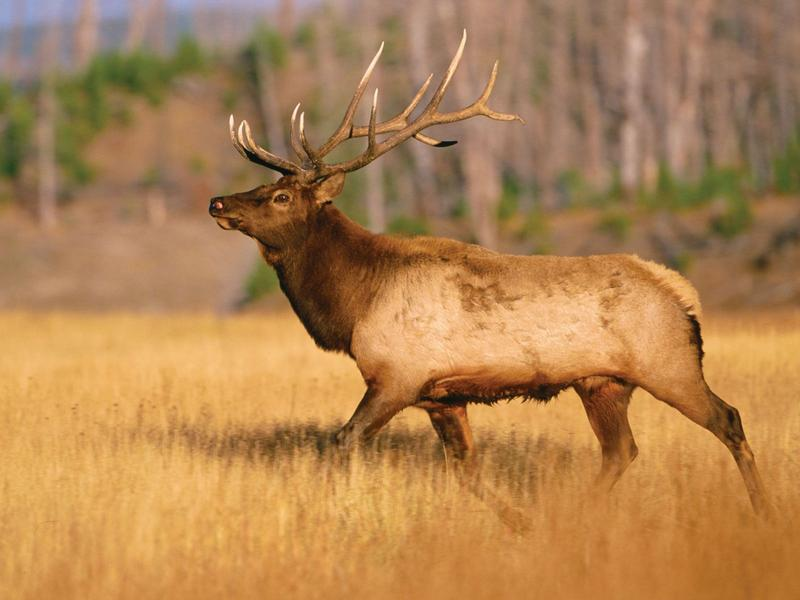elk: (212, 108, 759, 516)
